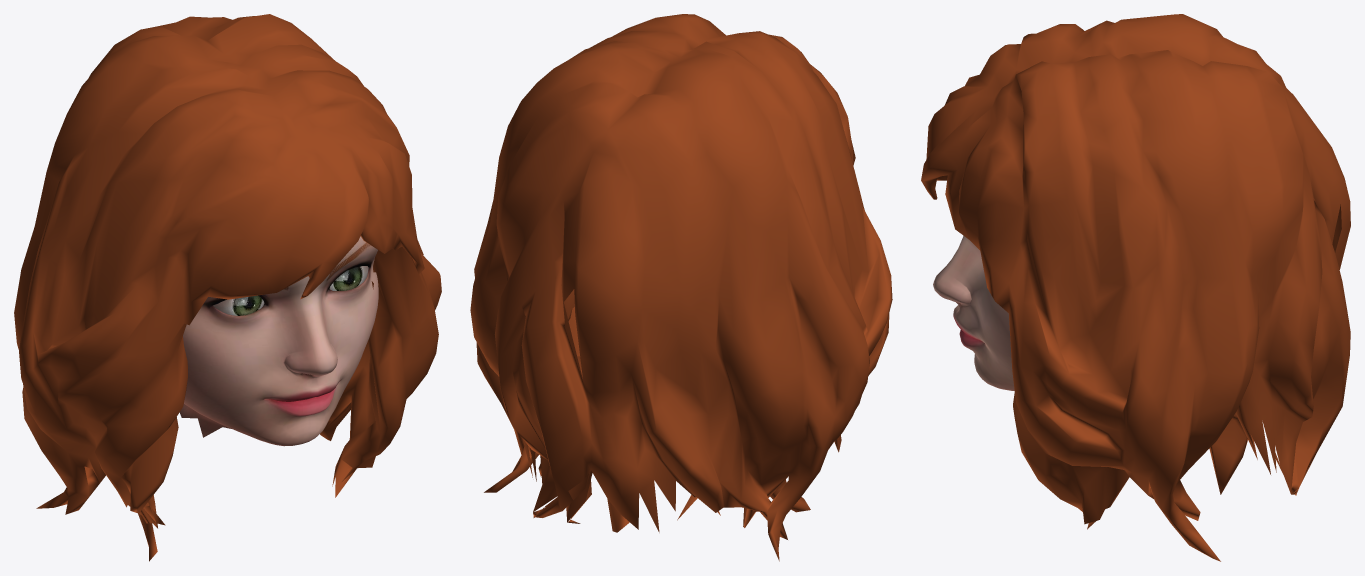
The model's file is son.glb.
3 views of the same model, side by side, from view 1: azimuth 30°, elevation 25°; view 2: azimuth 150°, elevation 25°; view 3: azimuth 270°, elevation 25° (orthographic). The views are drawn at different scales.
Parts seen in each view (by area): view 1: Wolf3D_Hair, Wolf3D_Head, EyeRight, EyeLeft; view 2: Wolf3D_Hair; view 3: Wolf3D_Hair, Wolf3D_Head.
Part boxes in pixels (<box>): Wolf3D_Hair: <box>14,14,441,561</box>; Wolf3D_Head: <box>179,236,378,446</box>; EyeRight: <box>213,295,264,315</box>; EyeLeft: <box>329,266,368,290</box>; Wolf3D_Hair: <box>470,14,892,561</box>; Wolf3D_Hair: <box>921,14,1350,561</box>; Wolf3D_Head: <box>933,235,1014,390</box>.
Bounding box in the file's own units: 0.2775 × 0.3142 × 0.2652.
4 materials, 4 textured.
